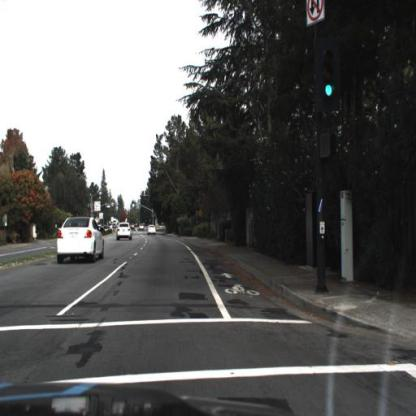car: (48, 210, 106, 274), (115, 220, 135, 244), (145, 218, 159, 239)
trafficLight-Green: (317, 44, 340, 111)
